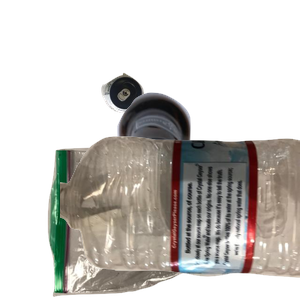glass: (115, 90, 300, 270)
metal: (99, 70, 236, 176)
plastic: (60, 134, 300, 300)
trash: (45, 144, 235, 300)
